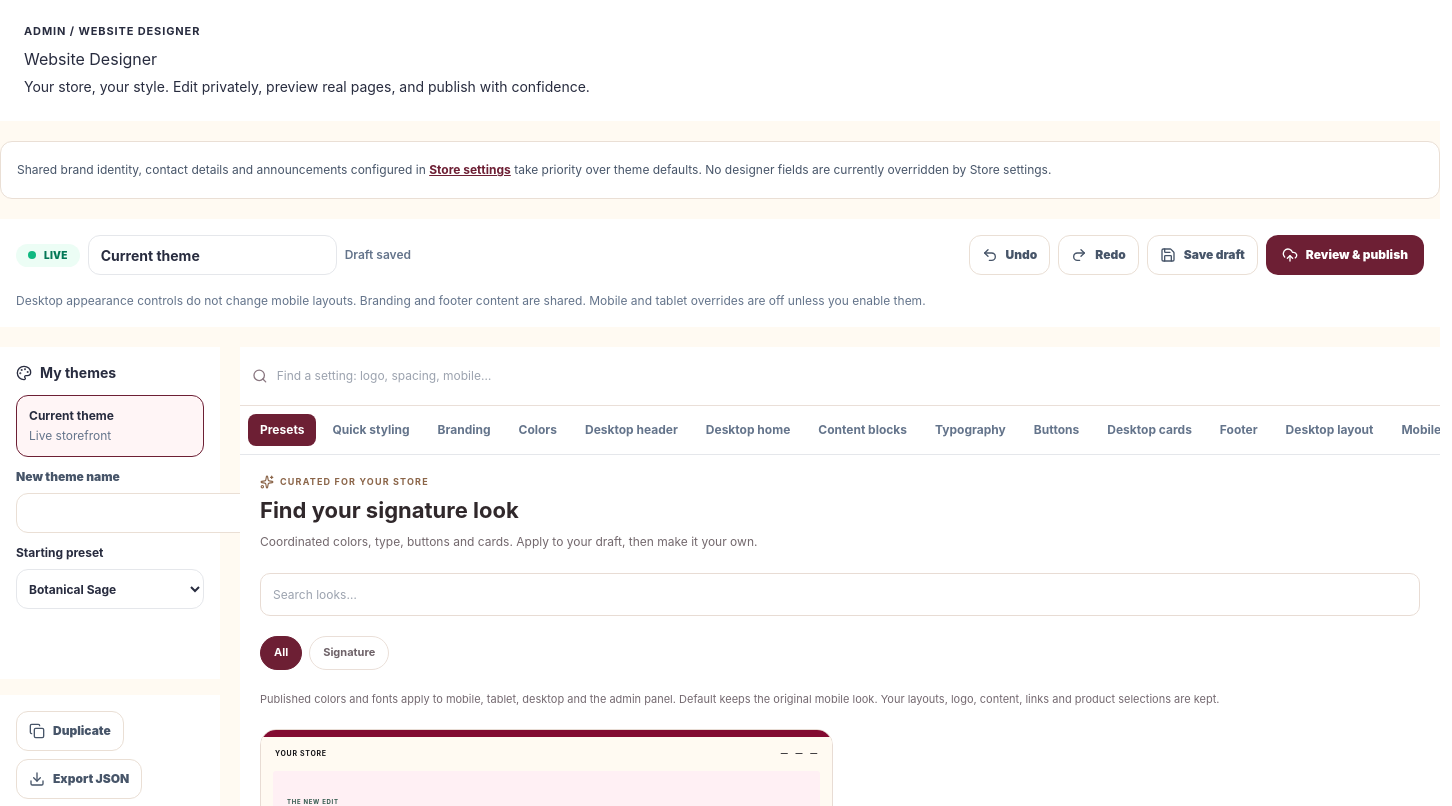
Scenario: editor opens without waiting for catalog or history, and avoids fetching the selected theme twice
The image size is (1452, 806).
Check: the tab "Presets" is shown, box [248,414,316,446]
Click the tab "Desktop home". click: (748, 430)
box: [694,414,802,446]
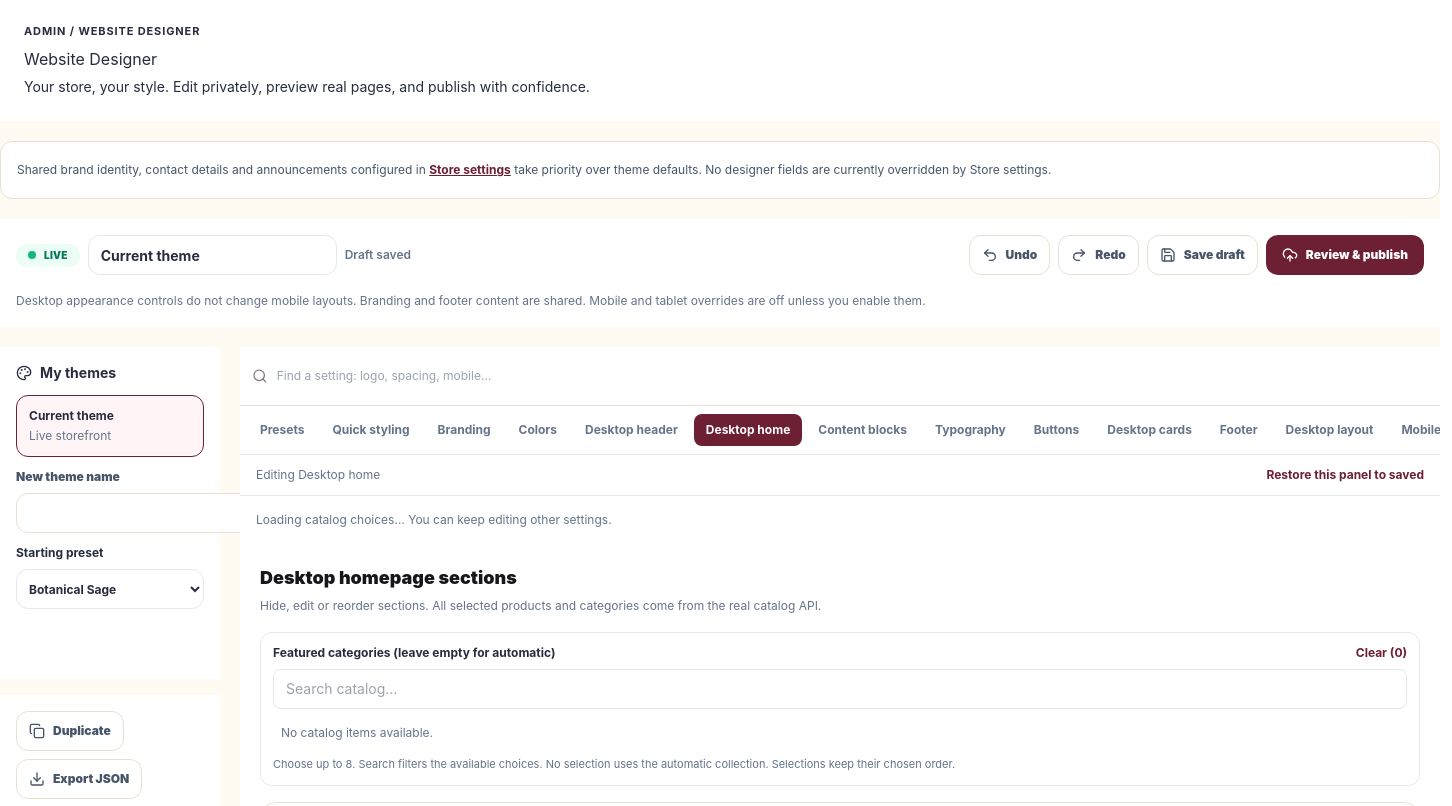
Check: the button "Save draft" is enabled, box [1147,235,1258,275]
Check: the text "Loading catalog choices… You can keep editing other settings." is shown, box [256,512,612,527]
